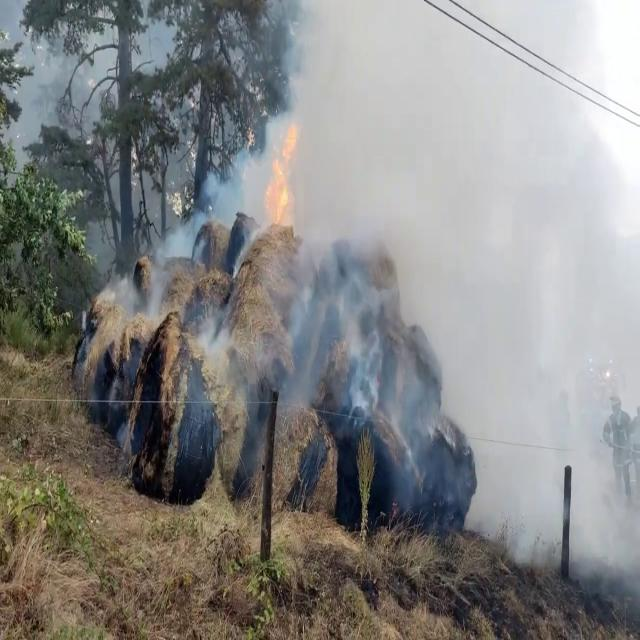Fire: (265, 120, 299, 233)
Smoke: (175, 0, 640, 553)
